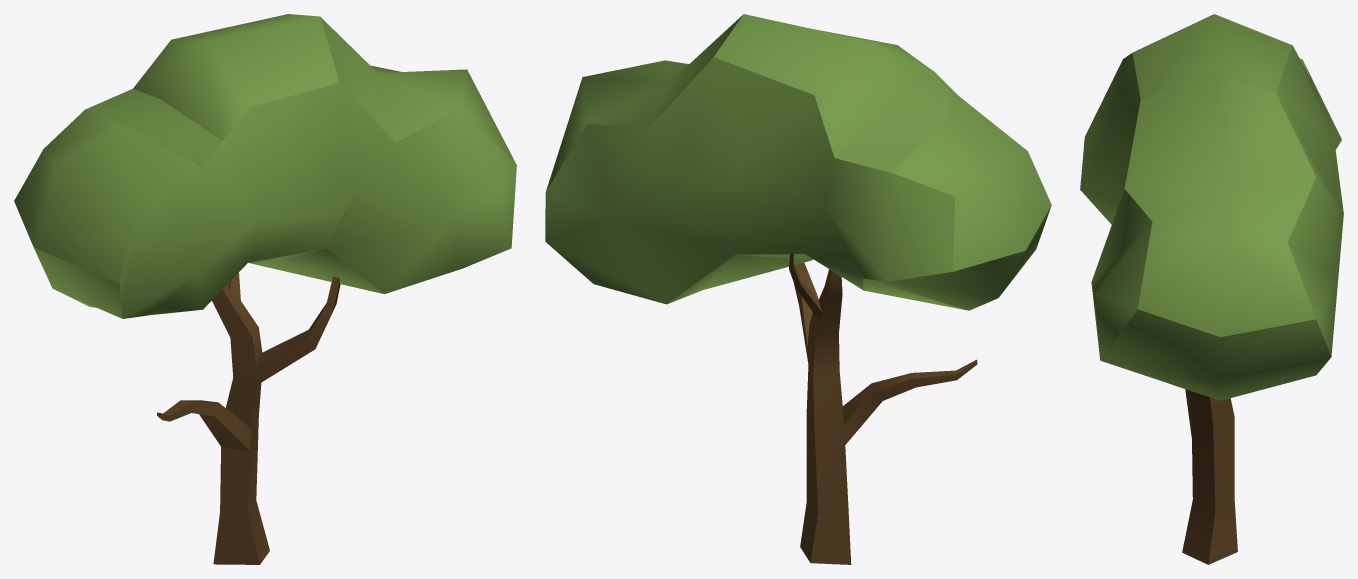
The model's file is tree_2.fbx.
3 renders of one model, left to right at view 1: azimuth 30°, elevation 25°; view 2: azimuth 150°, elevation 25°; view 3: azimuth 270°, elevation 25°, orthographic.
Visible parts, largest first — view 1: polySurface1, polySurface2; view 2: polySurface1, polySurface2; view 3: polySurface1, polySurface2.
Part boxes in pixels (<box>): polySurface1: <box>14,14,516,318</box>; polySurface2: <box>157,272,340,564</box>; polySurface1: <box>545,14,1051,310</box>; polySurface2: <box>789,254,977,564</box>; polySurface1: <box>1080,14,1343,400</box>; polySurface2: <box>1182,389,1237,564</box>.
Size of the model in its own units: 3.82 by 4.17 by 1.91.
